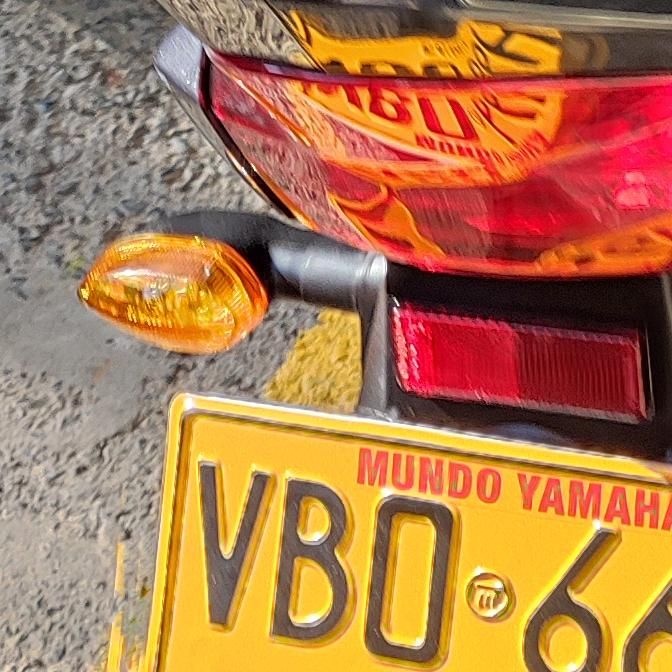plates: (151, 399, 672, 672)
